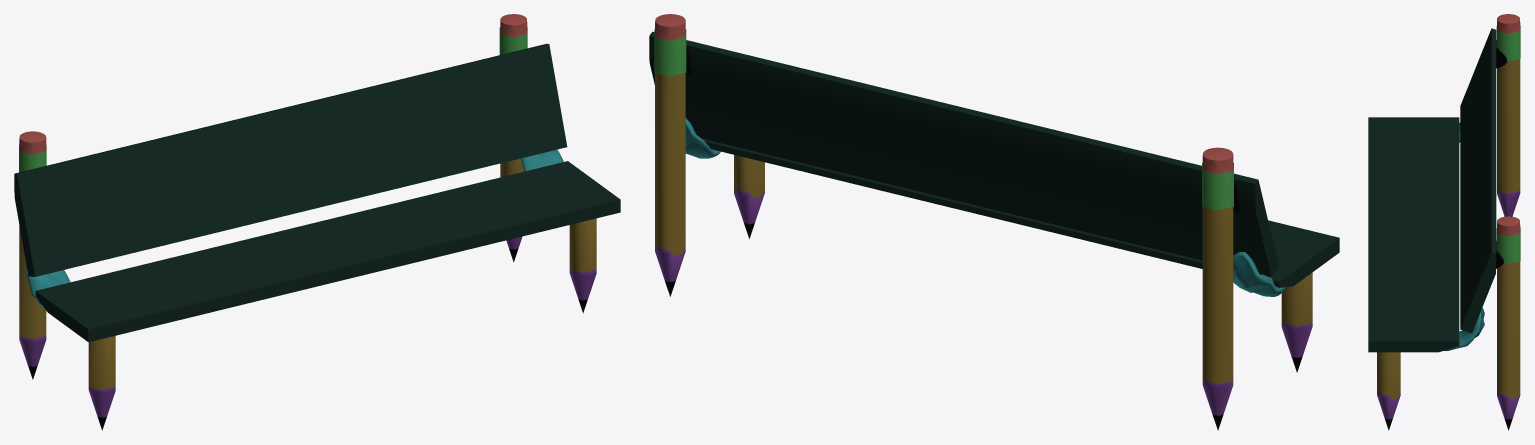
Rendered from StuckTogetherBench.fbx.
3 views of the same model, side by side, from view 1: azimuth 30°, elevation 25°; view 2: azimuth 150°, elevation 25°; view 3: azimuth 270°, elevation 25° (orthographic). The views are drawn at different scales.
Visible parts, largest first — view 1: Bench; view 2: Bench; view 3: Bench.
Boxes of the visible parts, box(x1,y1,x2,y2) form: Bench: box(14, 14, 620, 430); Bench: box(649, 14, 1339, 430); Bench: box(1368, 14, 1520, 430).
Bounding box in the file's own units: 8.96 × 3.93 × 2.57.
